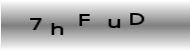7: (29, 17, 42, 30)
D: (128, 11, 145, 26)
F: (78, 13, 90, 26)
h: (48, 22, 64, 36)
u: (107, 18, 121, 29)
